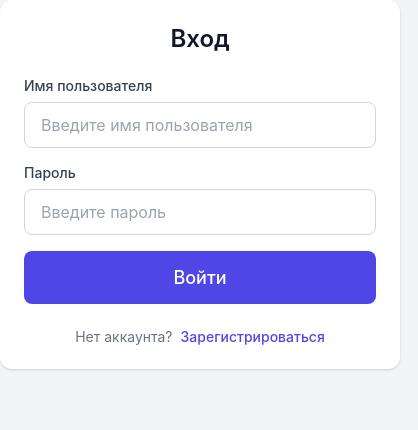
LoginForm › показывает ошибку при коротком имени пользователя (менее 3 символов)
Type "ab" into the field with placeholder "Введите имя пользователя". click: (200, 125)
box: [24, 102, 376, 148]
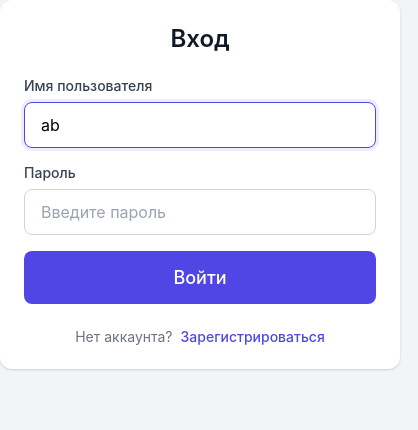
Type "password123" into the password field with placeholder "Введите пароль". click: (200, 212)
box: [24, 189, 376, 235]
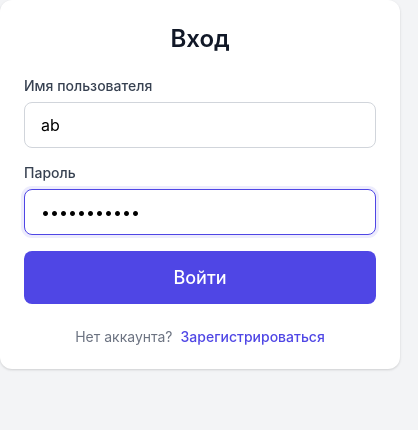
Click the button "Войти". click: (200, 278)
box: [24, 251, 376, 304]
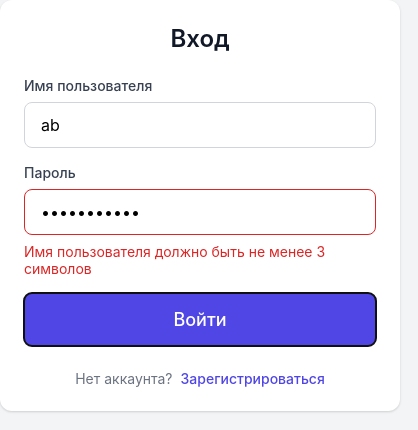
Expected: the text "Имя пользователя должно быть не менее 3 символов" is shown, [24, 243, 376, 277]
